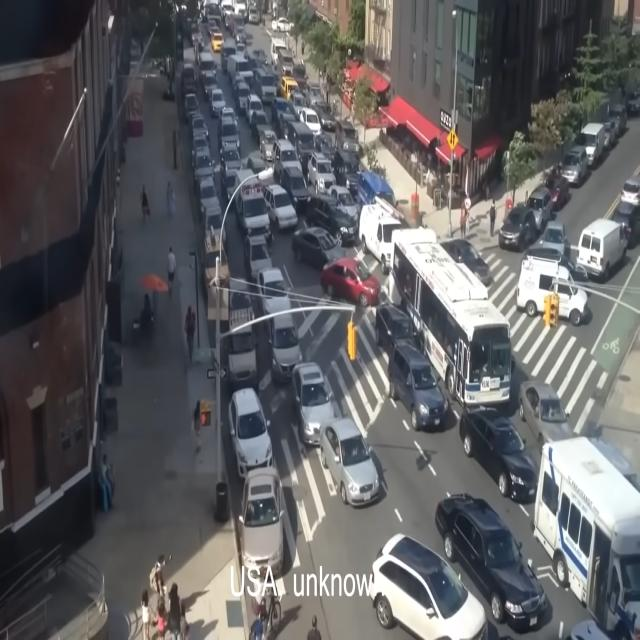ambulance: (236, 176, 266, 227)
